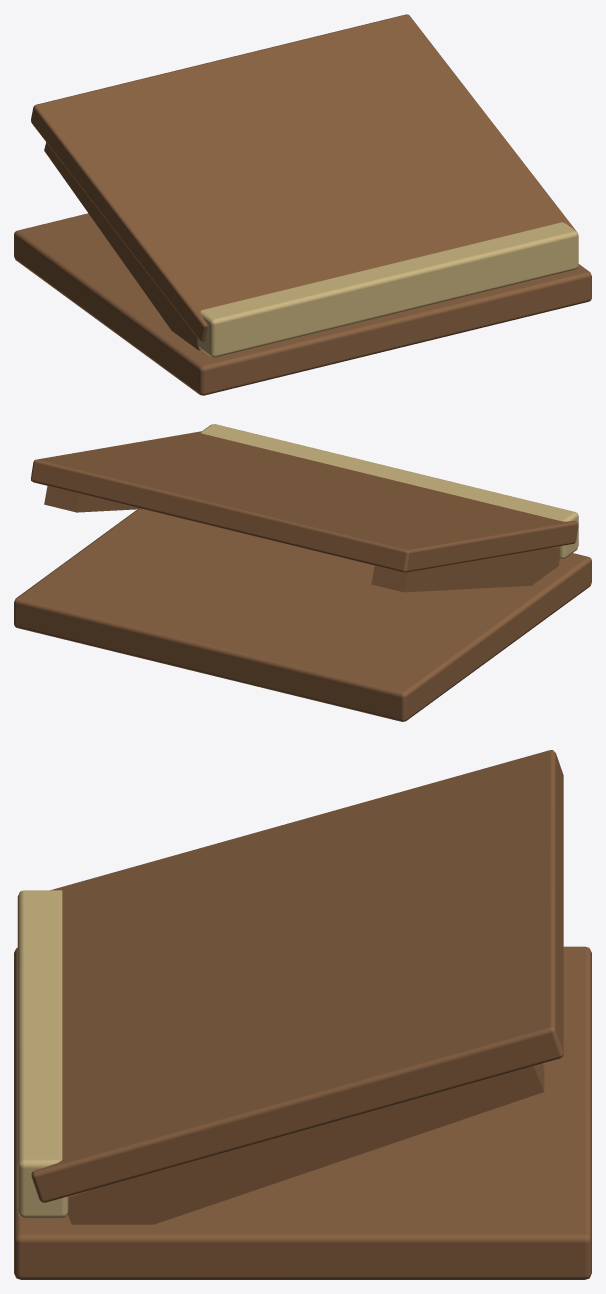
Rendered from city-courthouse-and-records-office-city-courthouse-and-3a603153__30995.glb.
The picture shows the model from 3 angles, top to bottom: view 1: azimuth 30°, elevation 25°; view 2: azimuth 150°, elevation 25°; view 3: azimuth 270°, elevation 25°; orthographic projection. The views are drawn at different scales.
Visible parts, largest first — view 1: city-courthouse-and-records-office-register-book-support; view 2: city-courthouse-and-records-office-register-book-support; view 3: city-courthouse-and-records-office-register-book-support.
Boxes of the visible parts, x1,y1,x2,y2 form: city-courthouse-and-records-office-register-book-support: (14,14,591,395); city-courthouse-and-records-office-register-book-support: (14,424,591,721); city-courthouse-and-records-office-register-book-support: (14,750,591,1279).
Bounding box in the file's own units: 0.48 × 0.189 × 0.4.
